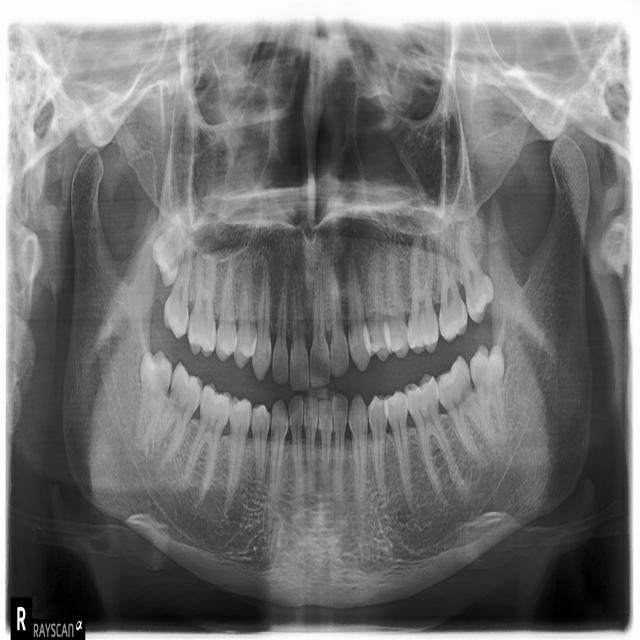mandibula: (64, 129, 590, 608)
